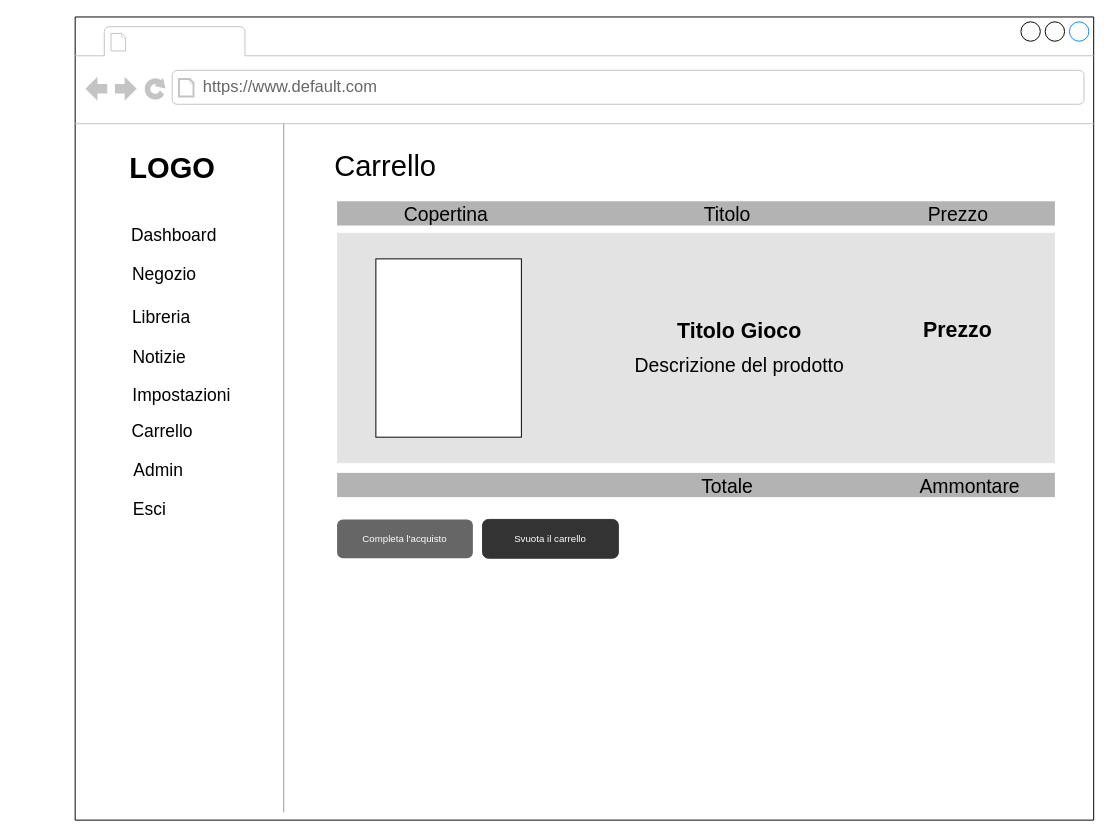
This 1111x837 diagram has some shape labels left out. Here are the shapes that lost their labels. From the top down, the centre of each, then its label:
At (x=186, y=41): "Page 1".
At (x=448, y=347): "Copertina Gioco".
